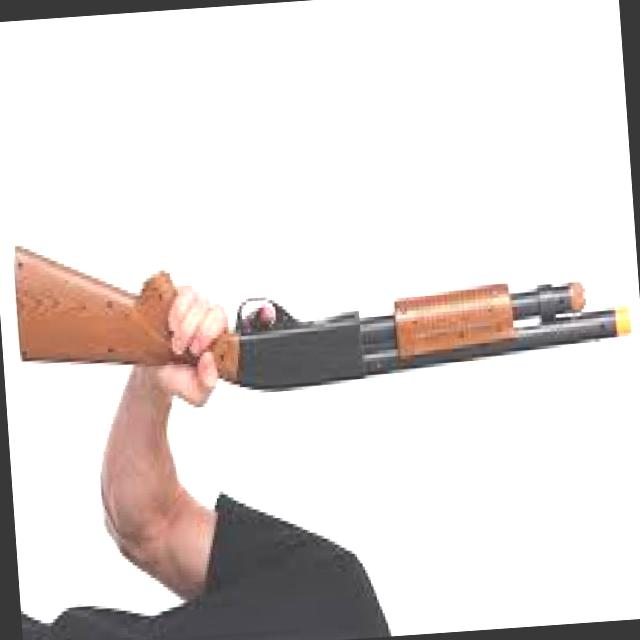long weapon: (9, 241, 628, 396)
